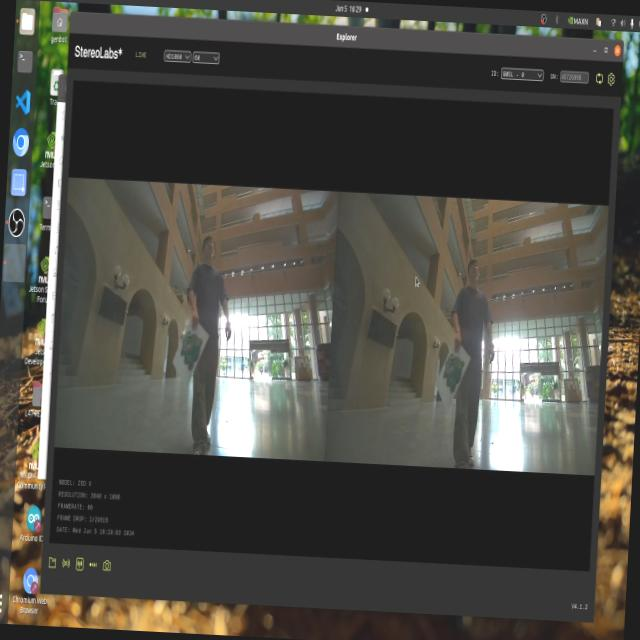green: (438, 348, 468, 398), (179, 324, 204, 374)
